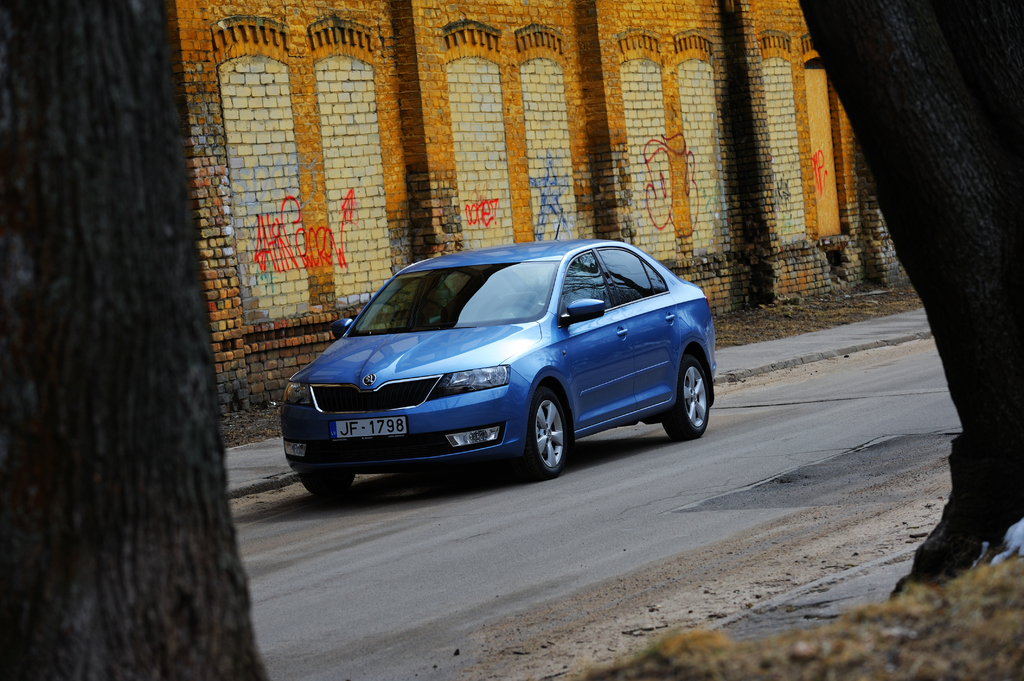Car: (279, 239, 712, 490)
